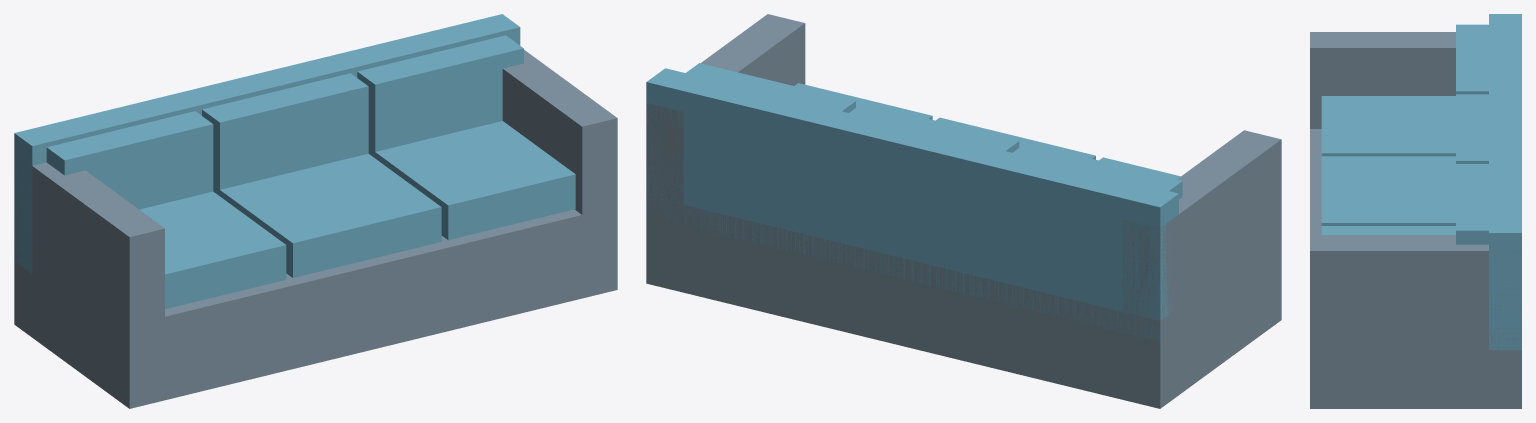
The model's file is demo-divano.glb.
3 renders of one model, left to right at view 1: azimuth 30°, elevation 25°; view 2: azimuth 150°, elevation 25°; view 3: azimuth 270°, elevation 25°, orthographic. The views are drawn at different scales.
Visible parts, largest first — view 1: Struttura, Cuscino seduta (×3), Cuscino schiena (×3), Bracciolo (×2), Schienale; view 2: Schienale, Struttura, Bracciolo (×2), Cuscino schiena (×3), Cuscino seduta (×2); view 3: Bracciolo (×2), Cuscino seduta (×3), Struttura, Schienale, Cuscino schiena (×3).
Boxes of the visible parts, <box> form: Struttura: <box>14,206,617,408</box>; Cuscino seduta (×3): <box>139,121,575,309</box>; Cuscino schiena (×3): <box>46,35,523,209</box>; Bracciolo (×2): <box>14,50,617,366</box>; Schienale: <box>14,14,520,273</box>; Schienale: <box>646,68,1178,341</box>; Struttura: <box>646,196,1281,408</box>; Bracciolo (×2): <box>646,14,1281,363</box>; Cuscino schiena (×3): <box>686,63,1182,199</box>; Cuscino seduta (×2): <box>794,83,1095,159</box>; Bracciolo (×2): <box>1310,32,1521,370</box>; Cuscino seduta (×3): <box>1321,96,1455,234</box>; Struttura: <box>1310,129,1521,408</box>; Schienale: <box>1489,14,1521,350</box>; Cuscino schiena (×3): <box>1456,24,1488,244</box>.
Size of the model in its own units: 2.2 by 0.845 by 0.9.
